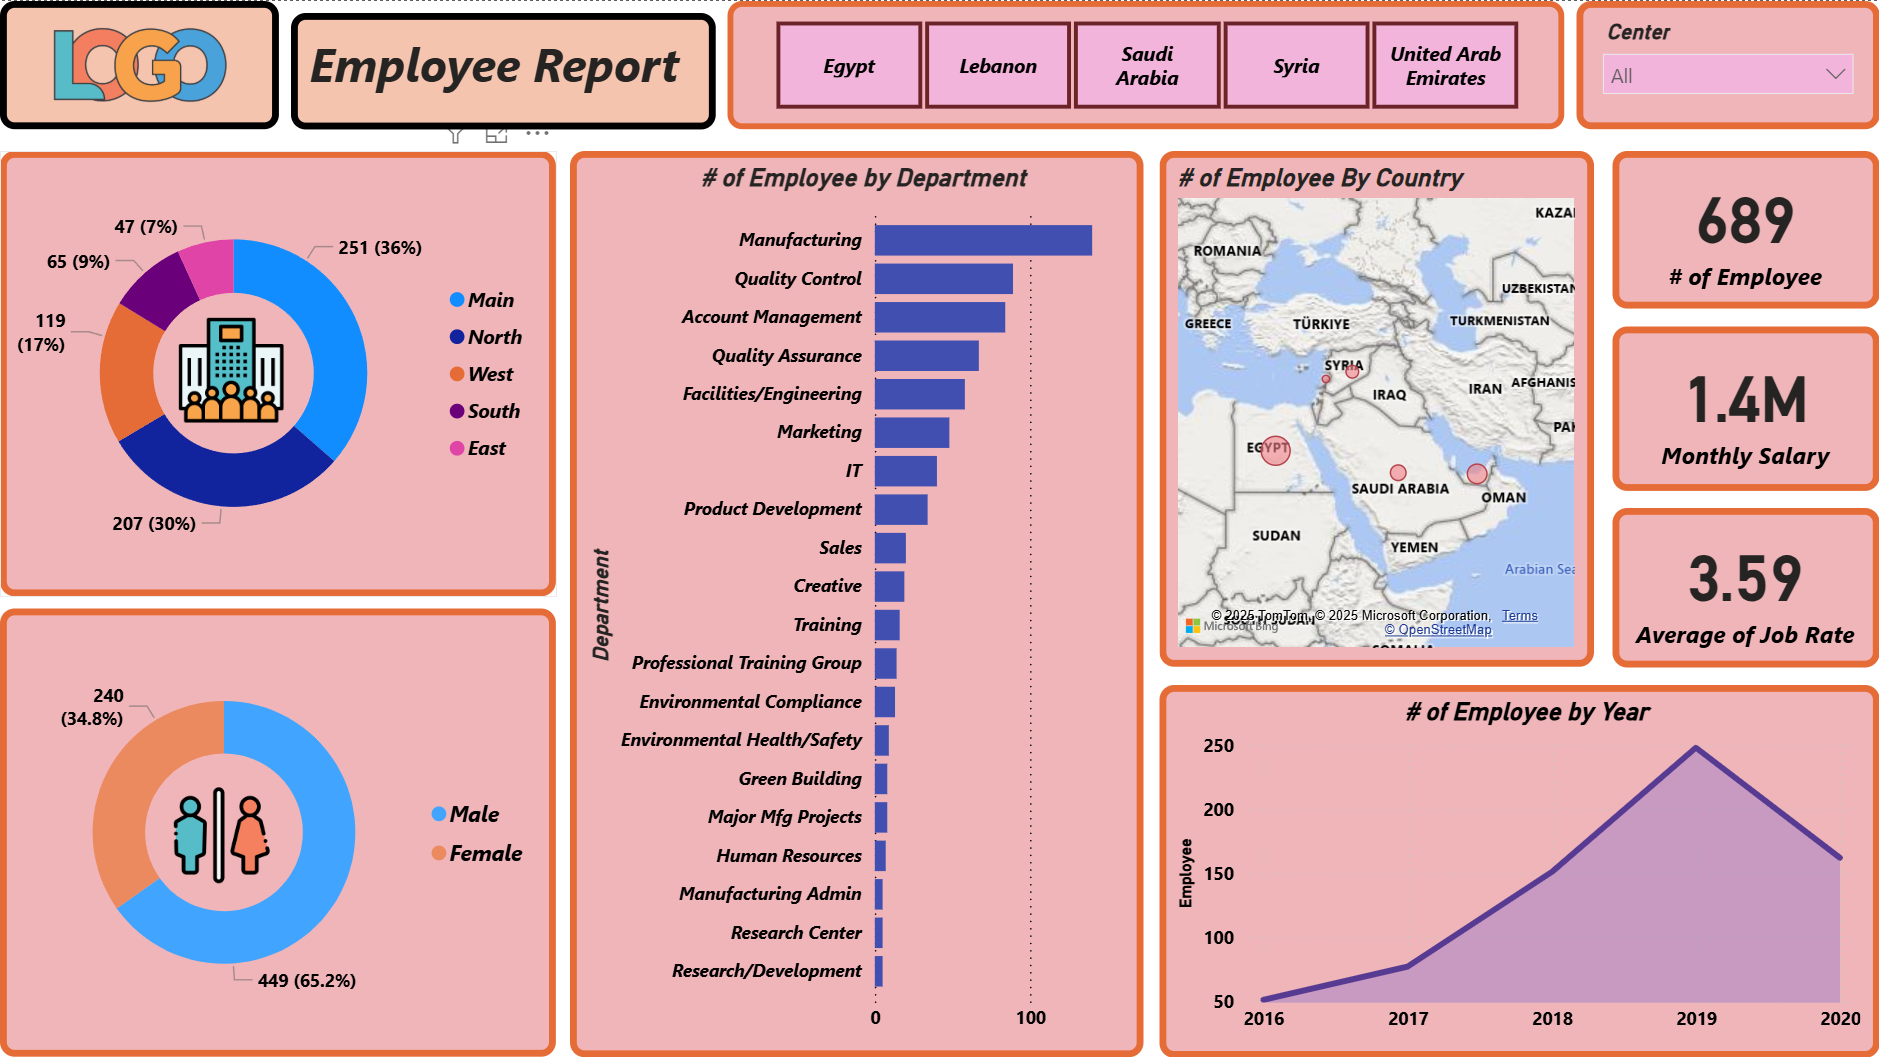

The page's visual inventory and layout, read from the dashboard file:
{"tool":"powerbi","page":{"name":"Employee Dashboard","canvas":[1280,720],"ordinal":0},"visuals":[{"type":"clusteredBarChart","title":"# of Employee by Department","fields":{"Y":["CountNonNull(EmpTable.No)"],"Category":["EmpTable.Department"]},"box":[388.2,102.7,390.6,617.2],"z":0},{"type":"donutChart","fields":{"Category":["EmpTable.Gender"],"Y":["CountNonNull(EmpTable.No)"]},"box":[0,414.2,378.8,305.6],"z":1},{"type":"donutChart","fields":{"Y":["CountNonNull(EmpTable.No)"],"Category":["EmpTable.Center"]},"box":[0,102.7,378.8,303.3],"z":3},{"type":"textbox","box":[198.3,8.3,289.1,79.1],"z":4},{"type":"image","box":[0,0,190,87.3],"z":5},{"type":"slicer","fields":{"Values":["EmpTable.Country"]},"box":[495.6,0,570,87.3],"z":6},{"type":"areaChart","title":"# of Employee by Year","fields":{"Y":["CountNonNull(EmpTable.No)"],"Category":["EmpTable.Start Date.Variation.Date Hierarchy.Year"]},"box":[789.5,466.1,490.9,253.7],"z":7},{"type":"slicer","fields":{"Values":["EmpTable.Center"]},"box":[1073.9,0,206.5,87.3],"z":8},{"type":"map","title":"# of Employee By Country","fields":{"Category":["EmpTable.Country"],"Size":["CountNonNull(EmpTable.No)"]},"box":[789.5,102.7,296.2,351.7],"z":9},{"type":"card","fields":{"Values":["CountNonNull(EmpTable.No)"]},"box":[1098.7,102.7,181.7,107.4],"z":10},{"type":"card","fields":{"Values":["Sum(EmpTable.Monthly Salary)"]},"box":[1098.7,221.9,181.7,112.1],"z":11},{"type":"card","fields":{"Values":["Avg(EmpTable.Job Rate)"]},"box":[1098.7,345.8,181.7,108.6],"z":12},{"type":"image","box":[112.1,529.9,77.9,75.5],"z":13},{"type":"image","box":[116.8,210.1,81.4,81.4],"z":14}]}

Visuals, with their boxes in screenshot pixels (x1, y1, x2, y2), scaled from the page's 1280x720 canvas onto the 1879x1057 screenshot:
"# of Employee by Department" clusteredBarChart: <box>570,151,1143,1056</box>
donutChart - EmpTable.Gender x CountNonNull(EmpTable.No): <box>0,608,556,1056</box>
donutChart - CountNonNull(EmpTable.No) x EmpTable.Center: <box>0,151,556,596</box>
textbox: <box>291,12,715,128</box>
image: <box>0,0,279,128</box>
slicer - EmpTable.Country: <box>728,0,1564,128</box>
"# of Employee by Year" areaChart: <box>1159,684,1878,1056</box>
slicer - EmpTable.Center: <box>1576,0,1878,128</box>
"# of Employee By Country" map: <box>1159,151,1594,667</box>
card - CountNonNull(EmpTable.No): <box>1613,151,1878,308</box>
card - Sum(EmpTable.Monthly Salary): <box>1613,326,1878,490</box>
card - Avg(EmpTable.Job Rate): <box>1613,508,1878,667</box>
image: <box>165,778,279,889</box>
image: <box>171,308,291,428</box>
